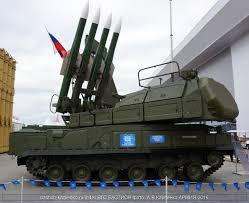rszo: (8, 2, 244, 188)
